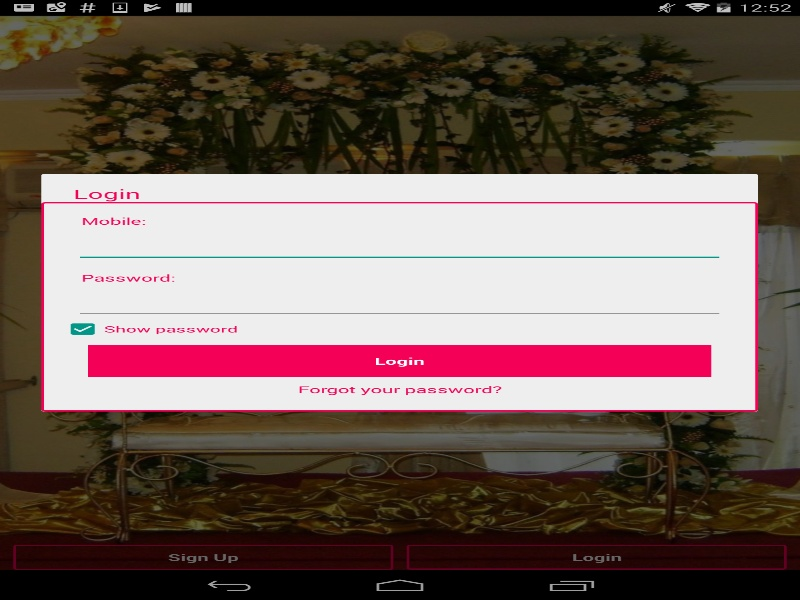Input: (74, 233, 724, 262), (74, 290, 724, 319)
